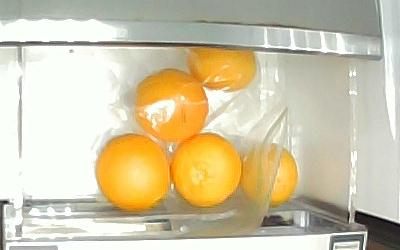orange: (96, 134, 171, 212), (171, 132, 242, 208)
orange_vinyl: (133, 68, 208, 141), (240, 143, 298, 209), (185, 50, 256, 92)
